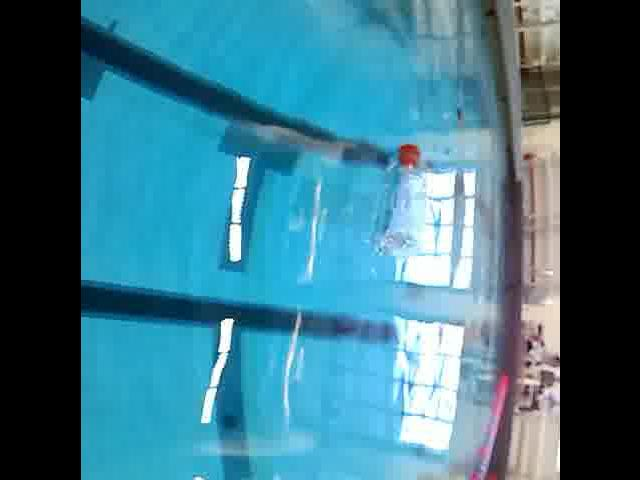Bottle: (374, 140, 430, 260)
